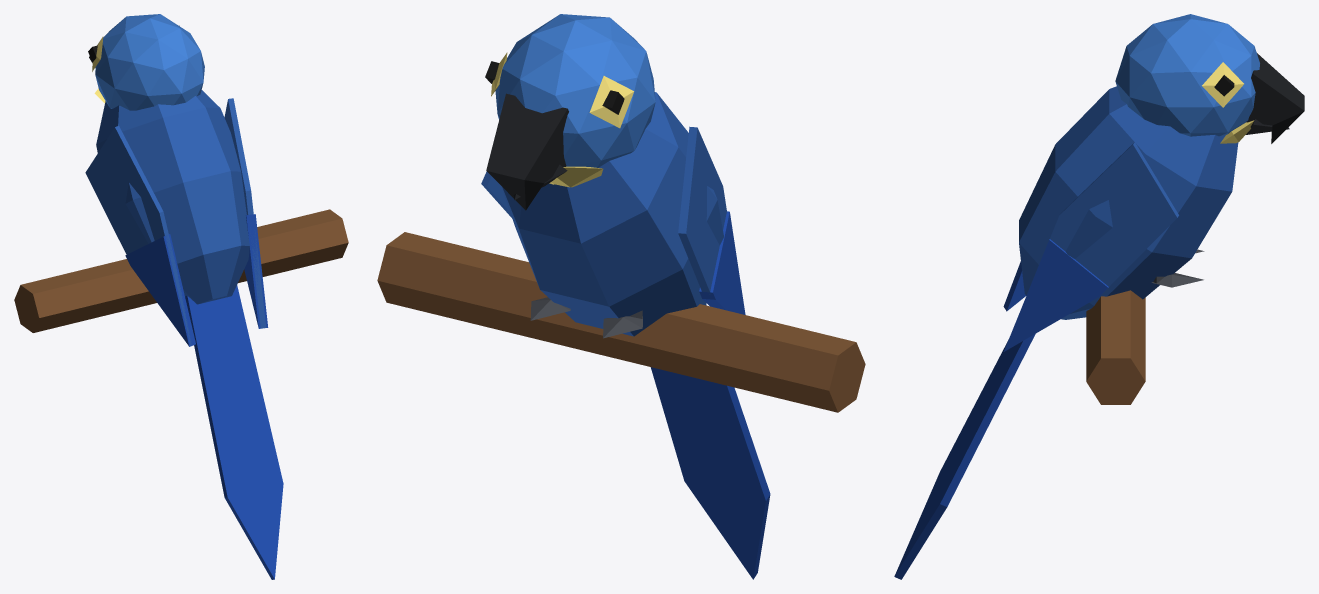
File: arara_azul_de_lear.glb
3 renders of one model, left to right at view 1: azimuth 30°, elevation 25°; view 2: azimuth 150°, elevation 25°; view 3: azimuth 270°, elevation 25°, orthographic. The views are drawn at different scales.
Visible parts, largest first — view 1: corpo; view 2: corpo; view 3: corpo.
Part boxes in pixels (x1,y1,x2,y2): corpo: (14, 14, 348, 579); corpo: (377, 14, 865, 579); corpo: (894, 14, 1304, 579).
Bounding box in the file's own units: 0.6853 × 1 × 0.6635.
